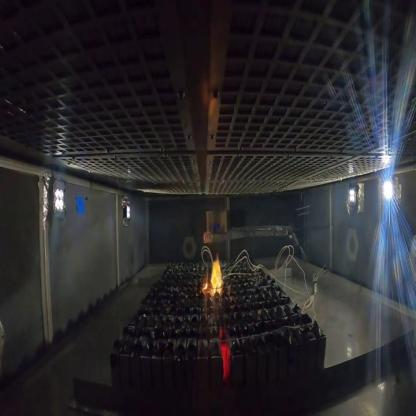fire: (199, 241, 226, 304)
